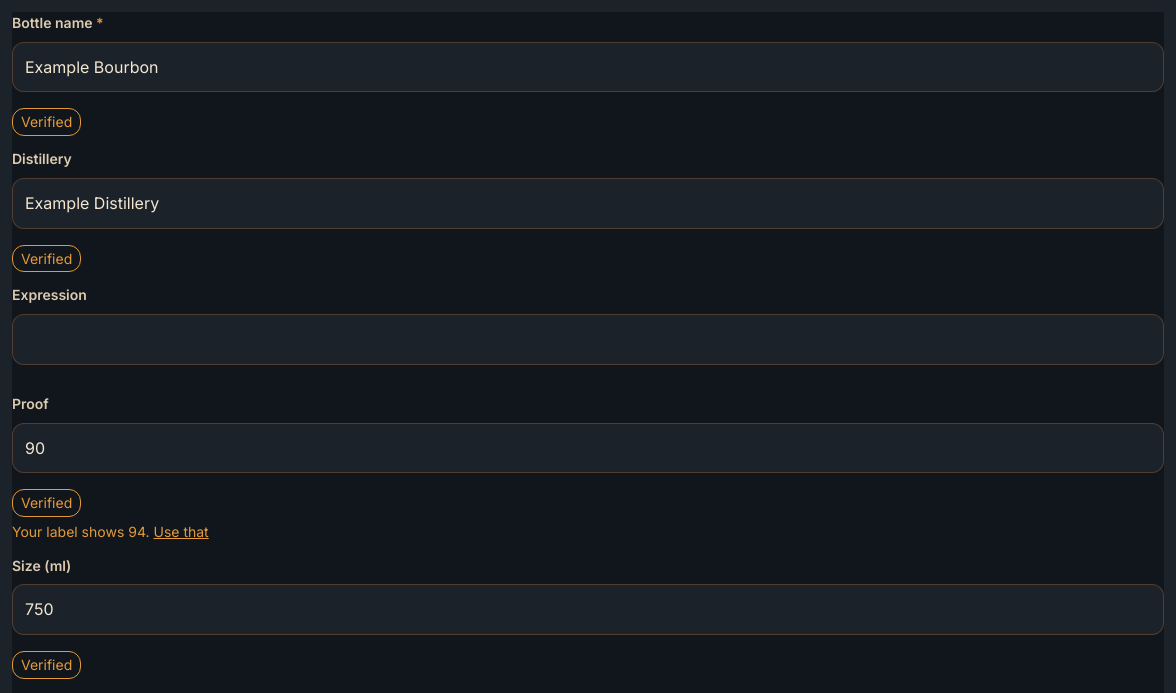
Test: BarcodeBottleForm › shows a label that disagrees with a verified value and lets the user use it
Check: the field labelled "Proof" holds "90", box left=12, top=422, right=1164, bottom=473
Check: the text "Your label shows 94. Use that" is shown, box left=12, top=521, right=209, bottom=543
Click the button "Use that": {"x": 181, "y": 532} left=154, top=521, right=209, bottom=543
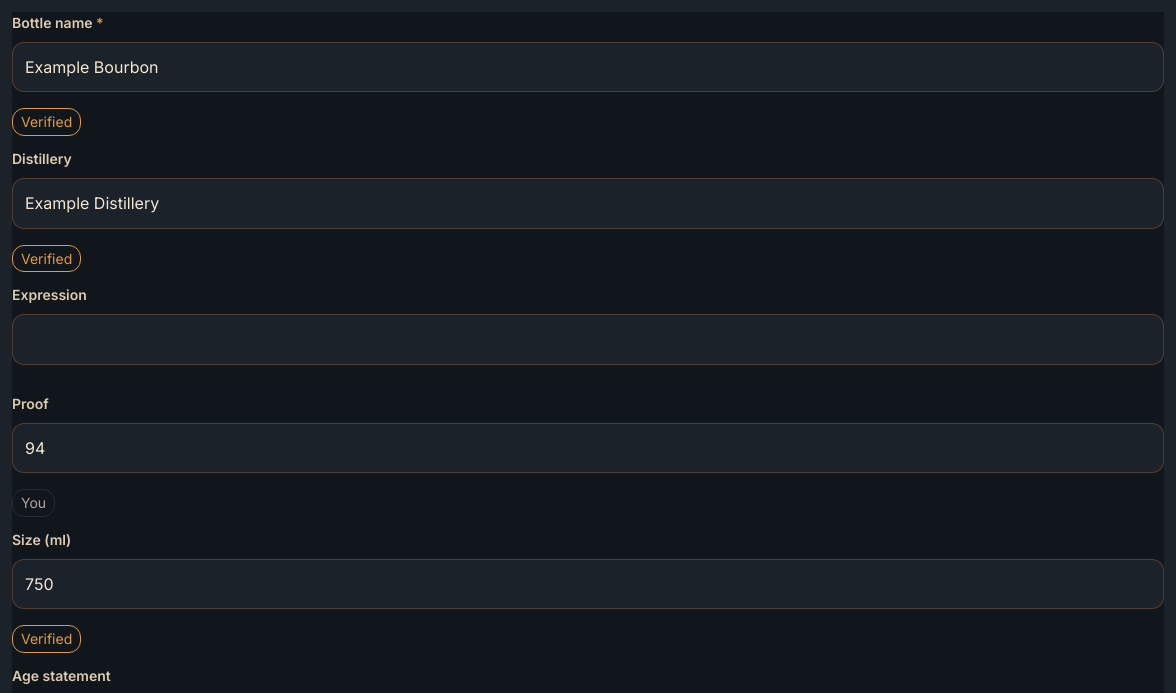
Check: the field labelled "Proof" holds "94", box left=12, top=422, right=1164, bottom=473
Check: the text "Your label shows 94" is gone
